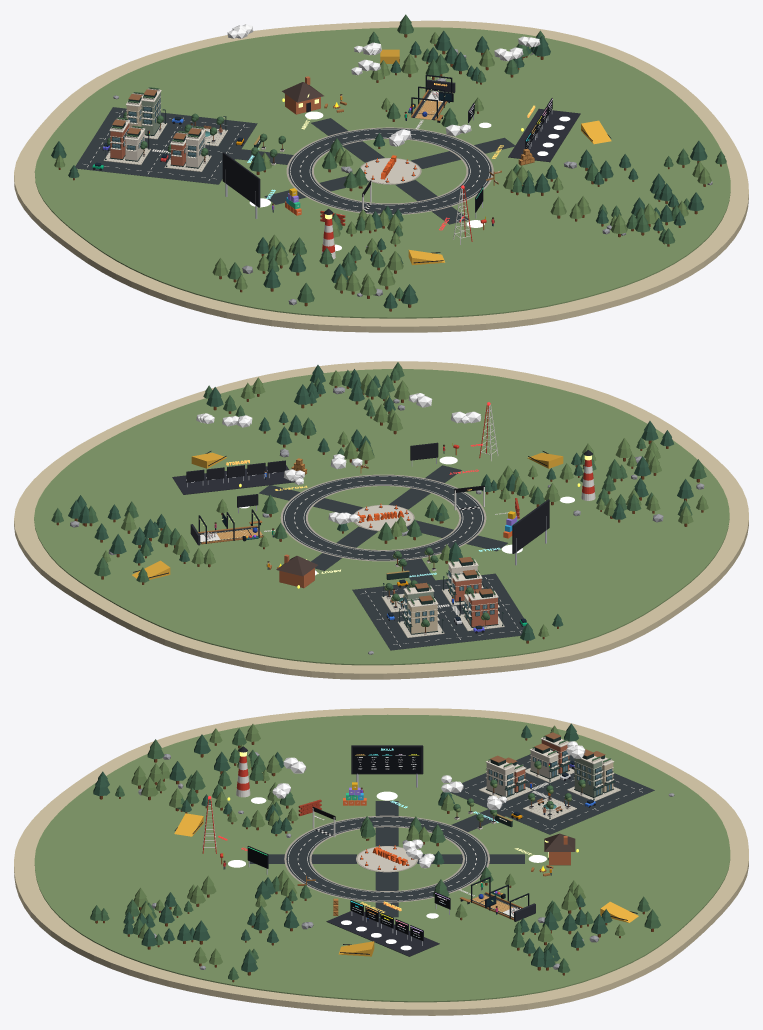
The model's file is world.glb.
3 renders of one model, top to bottom at view 1: azimuth 30°, elevation 25°; view 2: azimuth 150°, elevation 25°; view 3: azimuth 270°, elevation 25°, orthographic.
Visible parts, largest first — view 1: col_grass, scenery, col_sand, bldg_2, bldg_0, bldg_5, bldg_4; view 2: col_grass, scenery, col_sand, bldg_3, bldg_5, bldg_1, bldg_2; view 3: col_grass, scenery, col_sand, bldg_2, bldg_0, bldg_4, bldg_5.
Part boxes in pixels (x1=…): col_grass: x1=34, y1=27, x2=730, y2=318; scenery: x1=51, y1=14, x2=726, y2=311; col_sand: x1=14, y1=20, x2=748, y2=332; bldg_2: x1=140, y1=87, x2=161, y2=135; bldg_0: x1=185, y1=126, x2=205, y2=168; bldg_5: x1=109, y1=117, x2=130, y2=159; bldg_4: x1=124, y1=125, x2=145, y2=161; col_grass: x1=34, y1=369, x2=729, y2=665; scenery: x1=51, y1=362, x2=708, y2=654; col_sand: x1=14, y1=361, x2=748, y2=679; bldg_3: x1=405, y1=595, x2=439, y2=634; bldg_5: x1=466, y1=588, x2=499, y2=627; bldg_1: x1=450, y1=569, x2=483, y2=602; bldg_2: x1=401, y1=582, x2=435, y2=628; col_grass: x1=34, y1=714, x2=730, y2=1002; scenery: x1=90, y1=723, x2=674, y2=982; col_sand: x1=14, y1=708, x2=748, y2=1015; bldg_2: x1=573, y1=749, x2=604, y2=797; bldg_0: x1=485, y1=755, x2=516, y2=797; bldg_4: x1=529, y1=743, x2=560, y2=779; bldg_5: x1=540, y1=732, x2=571, y2=774.
Size of the model in its own units: 149 by 21.89 by 153.
